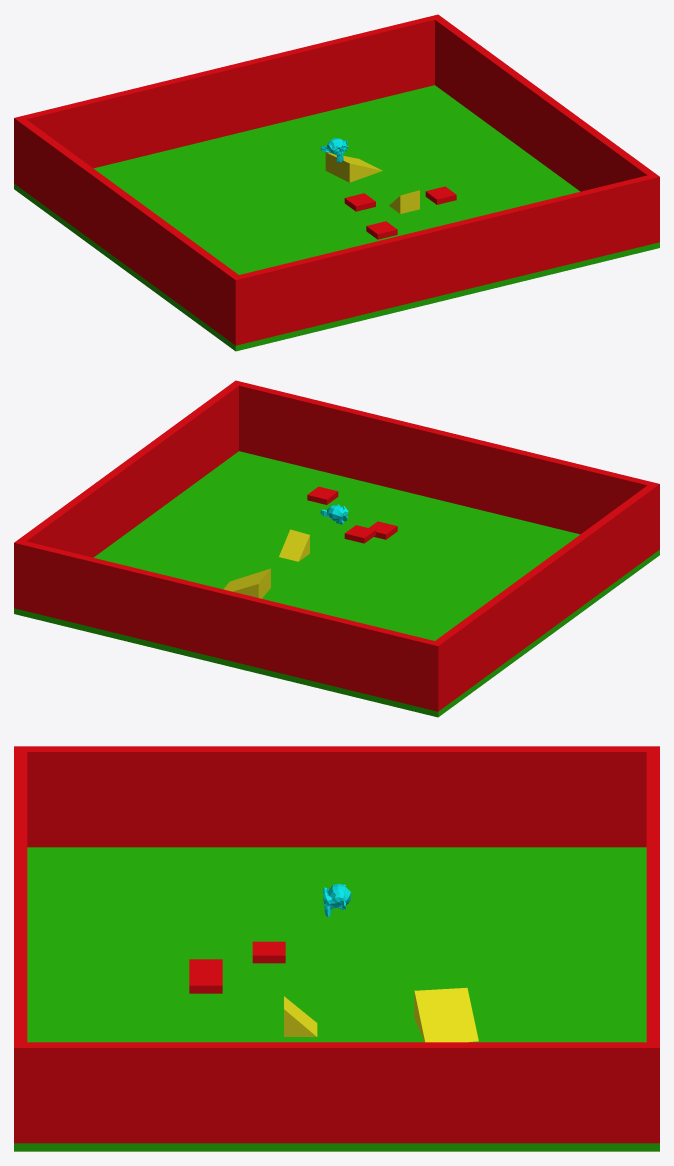
File: introLevel.gltf
3 renders of one model, top to bottom at view 1: azimuth 30°, elevation 25°; view 2: azimuth 150°, elevation 25°; view 3: azimuth 270°, elevation 25°, orthographic. The views are drawn at different scales.
Visible parts, largest first — view 1: collider_playground, collider_playground.004, collider_playground.002, collider_playground.001, collider_playground.003, collider_Cube.004, collider_Cube.003; view 2: collider_playground, collider_playground.002, collider_playground.004, collider_playground.001, collider_playground.003, collider_Cube.004, collider_Cube.003; view 3: collider_playground, collider_playground.003, collider_playground.001, collider_playground.002, collider_playground.004, collider_Cube.004, collider_Cube.003, collider_Cube, collider_Cube.001, collider_Suzanne.
Part boxes in pixels (left/top/right/bottom): collider_playground: left=14, top=85, right=659, bottom=351; collider_playground.004: left=235, top=175, right=659, bottom=345; collider_playground.002: left=15, top=14, right=437, bottom=168; collider_playground.001: left=14, top=118, right=238, bottom=345; collider_playground.003: left=435, top=14, right=659, bottom=191; collider_Cube.004: left=325, top=152, right=382, bottom=182; collider_Cube.003: left=389, top=190, right=419, bottom=213; collider_playground: left=14, top=451, right=659, bottom=717; collider_playground.002: left=14, top=541, right=438, bottom=711; collider_playground.004: left=236, top=380, right=658, bottom=534; collider_playground.001: left=435, top=484, right=659, bottom=711; collider_playground.003: left=14, top=380, right=238, bottom=557; collider_Cube.004: left=223, top=568, right=270, bottom=598; collider_Cube.003: left=279, top=529, right=309, bottom=561; collider_playground: left=14, top=847, right=659, bottom=1151; collider_playground.003: left=14, top=1042, right=659, bottom=1143; collider_playground.001: left=14, top=746, right=659, bottom=847; collider_playground.002: left=646, top=746, right=659, bottom=1047; collider_playground.004: left=14, top=746, right=27, bottom=1047; collider_Cube.004: left=414, top=987, right=478, bottom=1042; collider_Cube.003: left=284, top=996, right=317, bottom=1036; collider_Cube: left=189, top=971, right=222, bottom=993; collider_Cube.001: left=252, top=941, right=285, bottom=963; collider_Suzanne: left=323, top=883, right=350, bottom=917.
Bounding box in the file's own units: 42.92 × 7.62 × 38.86.
